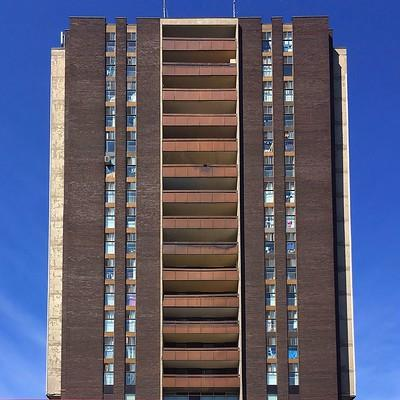building: (46, 10, 359, 400)
